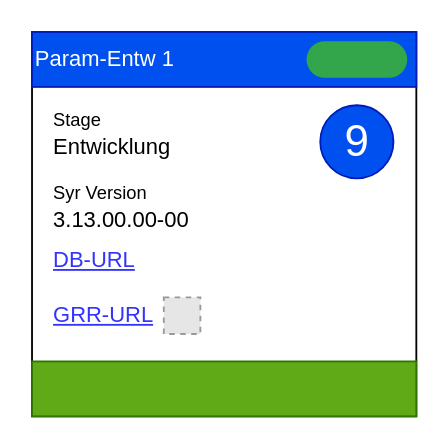
This 448x448 diagram has some shape labels left out. Grey dashed boxes stand in for pictures. Each missing label, with the centre of its shape:
"Idle" goes at point (223, 388).
"online" goes at point (356, 58).
